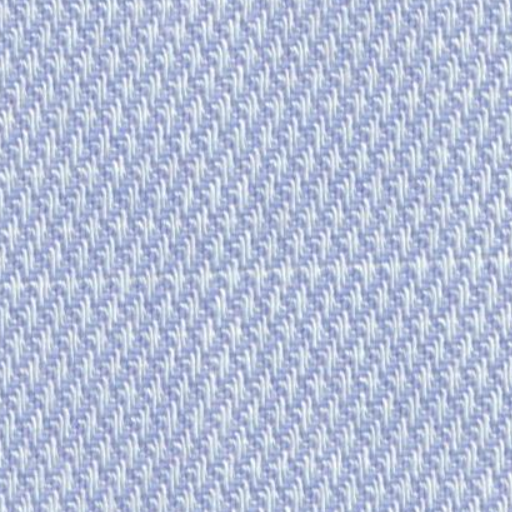TuoSha: (16, 242, 497, 330)
